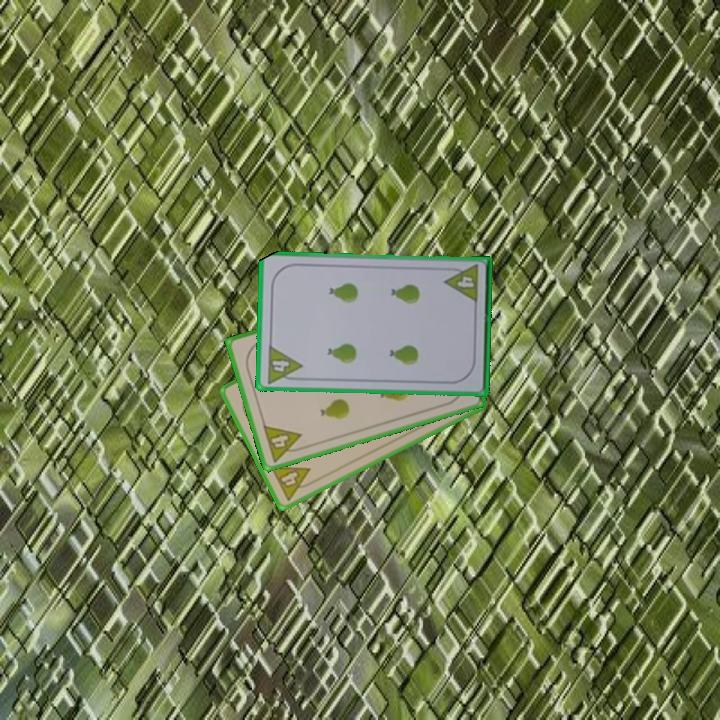4p: (259, 421, 308, 465), (267, 462, 319, 503), (264, 342, 305, 386), (442, 261, 481, 306)
